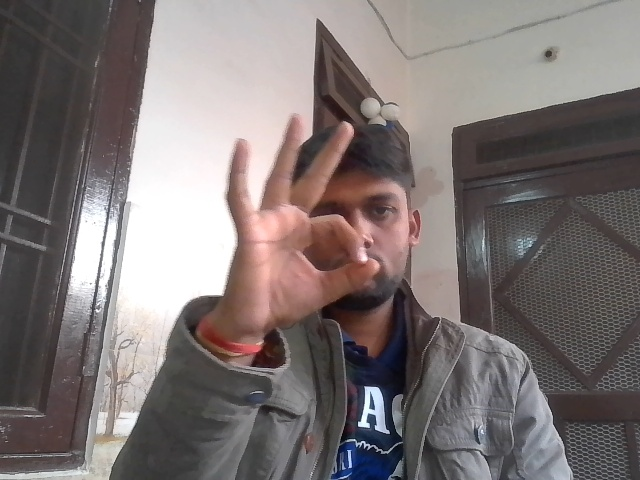Good: (202, 112, 381, 330)
